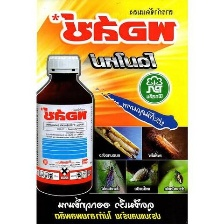insecticide: (30, 53, 95, 197)
